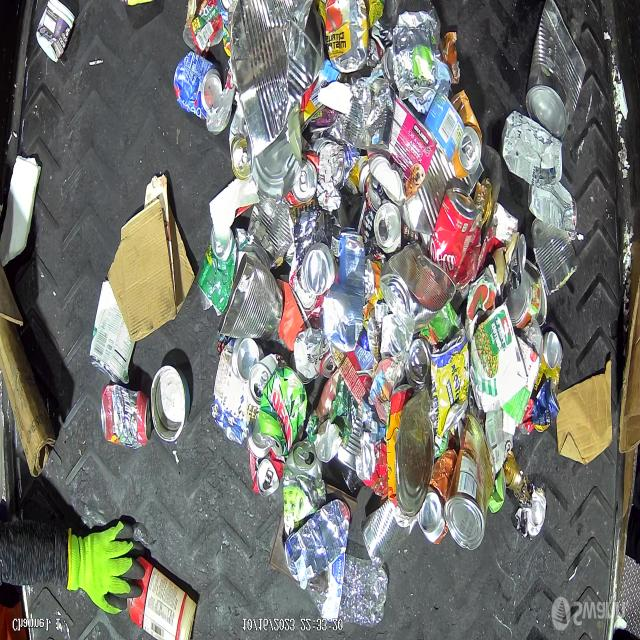can: (228, 0, 326, 159), (525, 0, 587, 143), (367, 93, 437, 206), (444, 413, 496, 551), (379, 240, 457, 331), (218, 252, 284, 343), (210, 336, 265, 445), (394, 388, 436, 520), (90, 278, 136, 384), (258, 365, 308, 458), (428, 186, 478, 275), (342, 75, 396, 153), (431, 327, 470, 435), (417, 449, 458, 545), (246, 190, 294, 271), (174, 51, 224, 122), (530, 220, 579, 292), (197, 227, 235, 316), (100, 384, 152, 449), (393, 27, 437, 102), (150, 363, 191, 442), (424, 89, 466, 164), (531, 336, 563, 432), (450, 90, 483, 180), (528, 181, 578, 240), (284, 439, 324, 512), (247, 422, 285, 498), (362, 500, 397, 567), (506, 268, 542, 329), (250, 353, 287, 407), (301, 242, 336, 296), (515, 483, 547, 541), (229, 106, 253, 182), (374, 202, 402, 263), (502, 234, 528, 299), (285, 157, 318, 207), (337, 414, 361, 472), (505, 448, 527, 492), (543, 333, 564, 376), (367, 173, 388, 216)
plastic_bottle: (300, 553, 388, 625)
